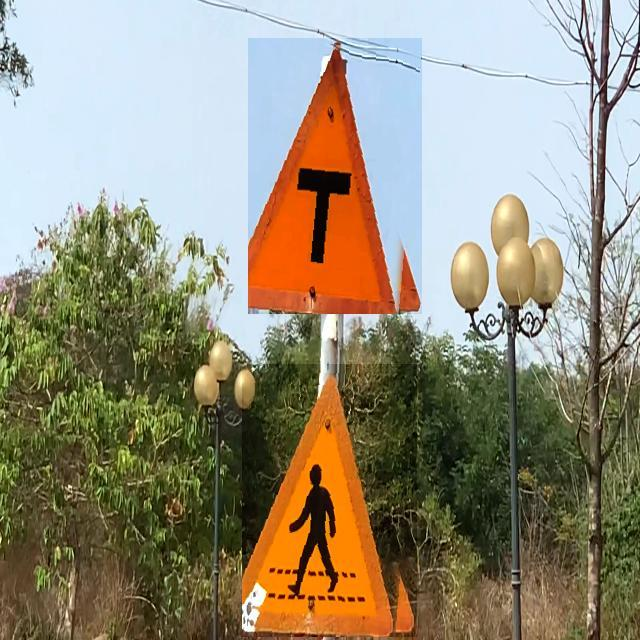W-205b: (248, 38, 422, 314)
W-224: (242, 364, 417, 637)
